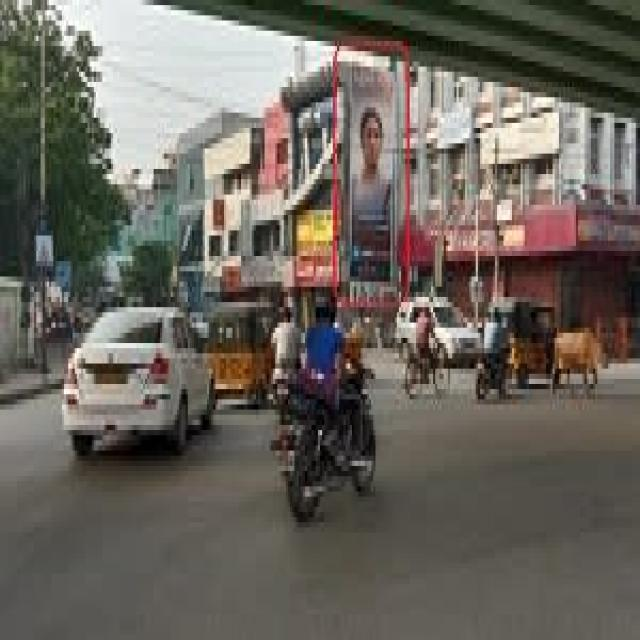Werbetafel frei: (344, 58, 398, 300)
